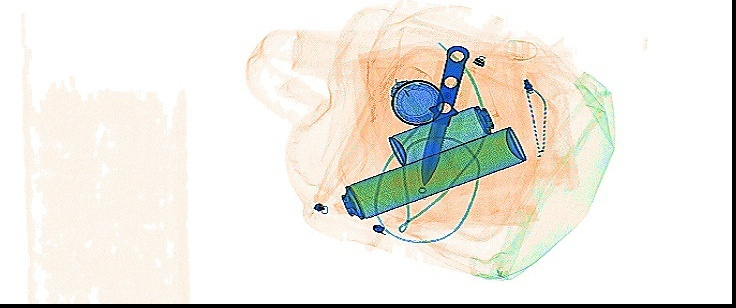knife: (414, 42, 468, 185)
pressure: (332, 123, 527, 219), (383, 102, 502, 166)
